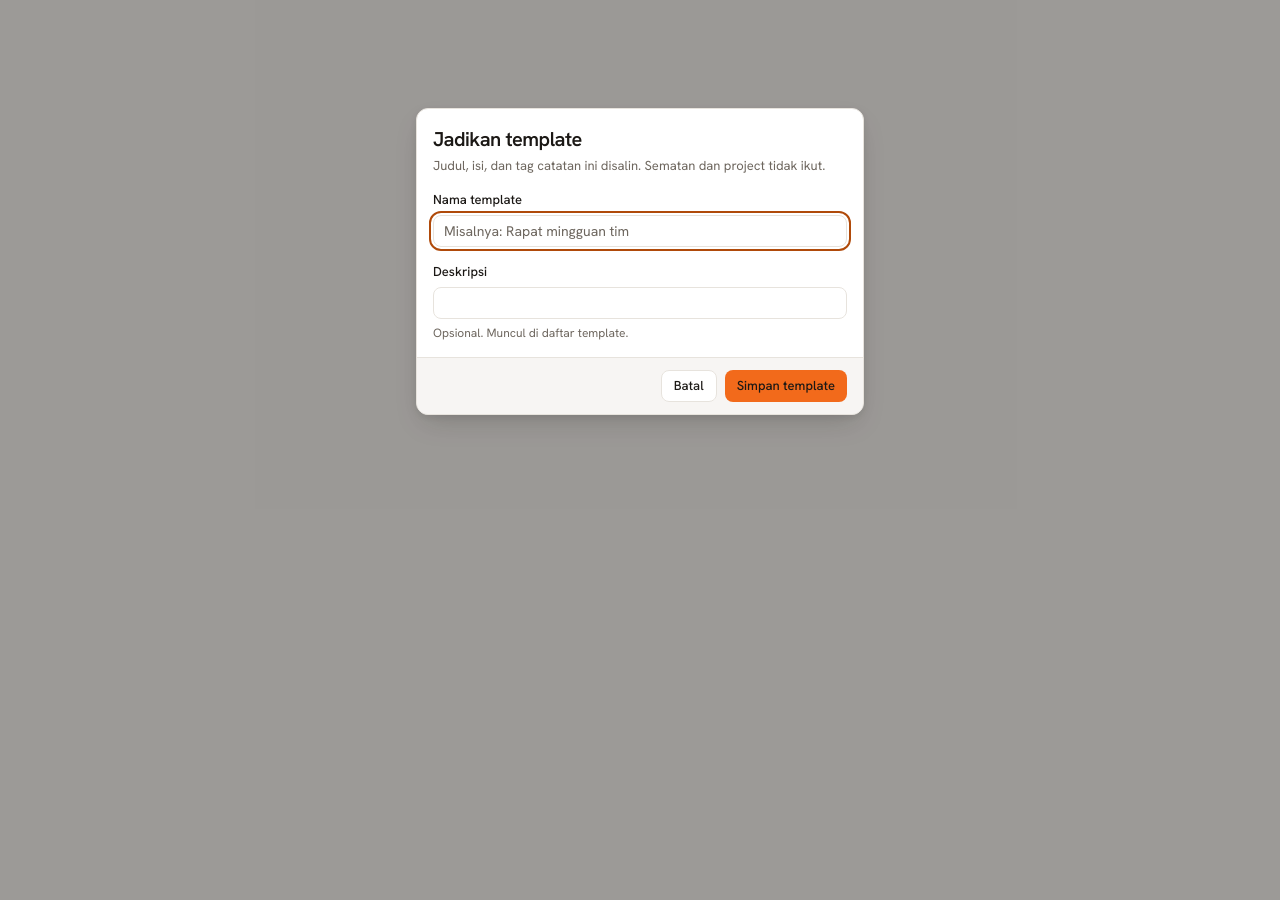
Test case: SaveTemplateDialog › needs a name
Click the button "Simpan template".
click(786, 386)  # box [725, 370, 847, 402]
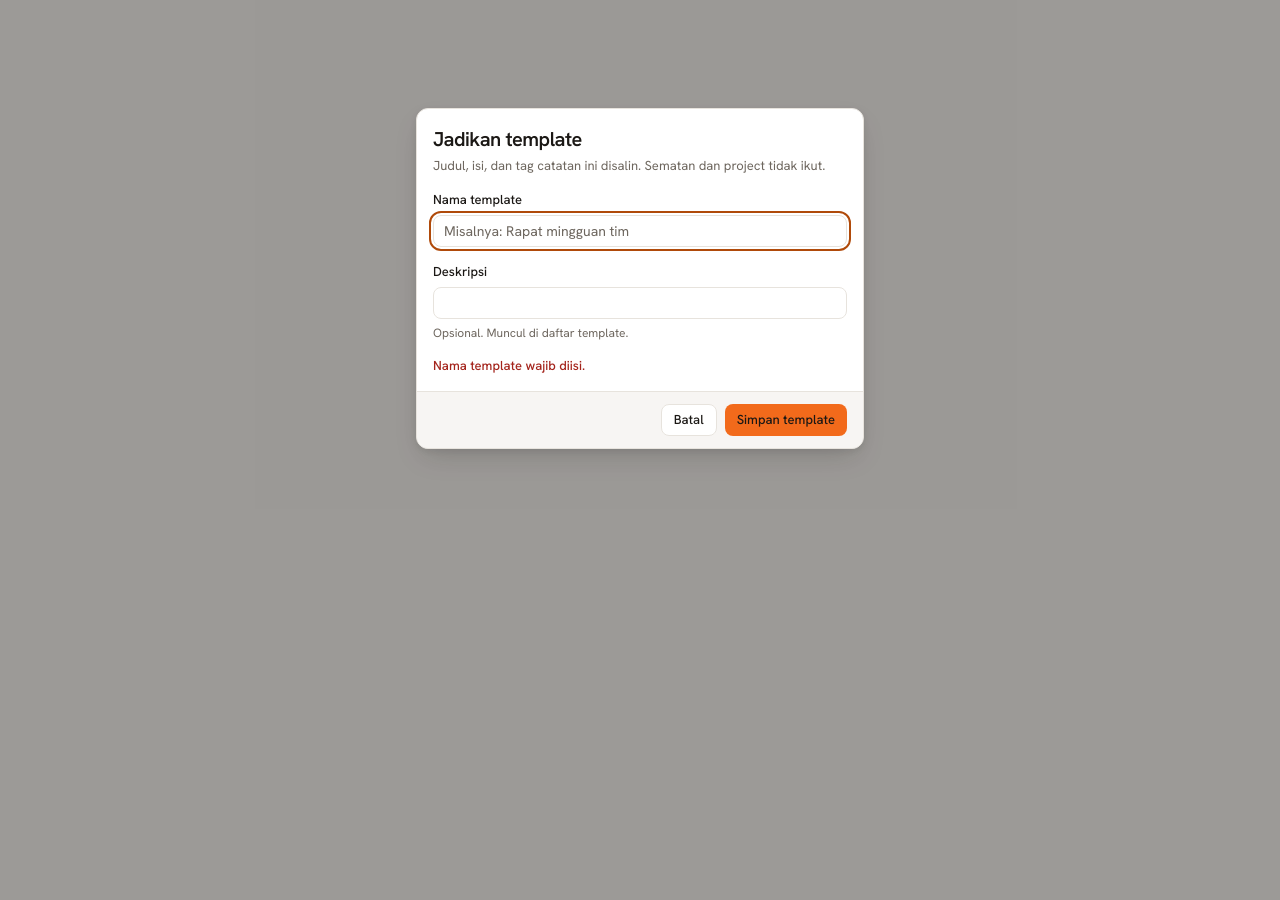
Expected: the message reads "Nama template wajib diisi.", [433, 357, 585, 374]
